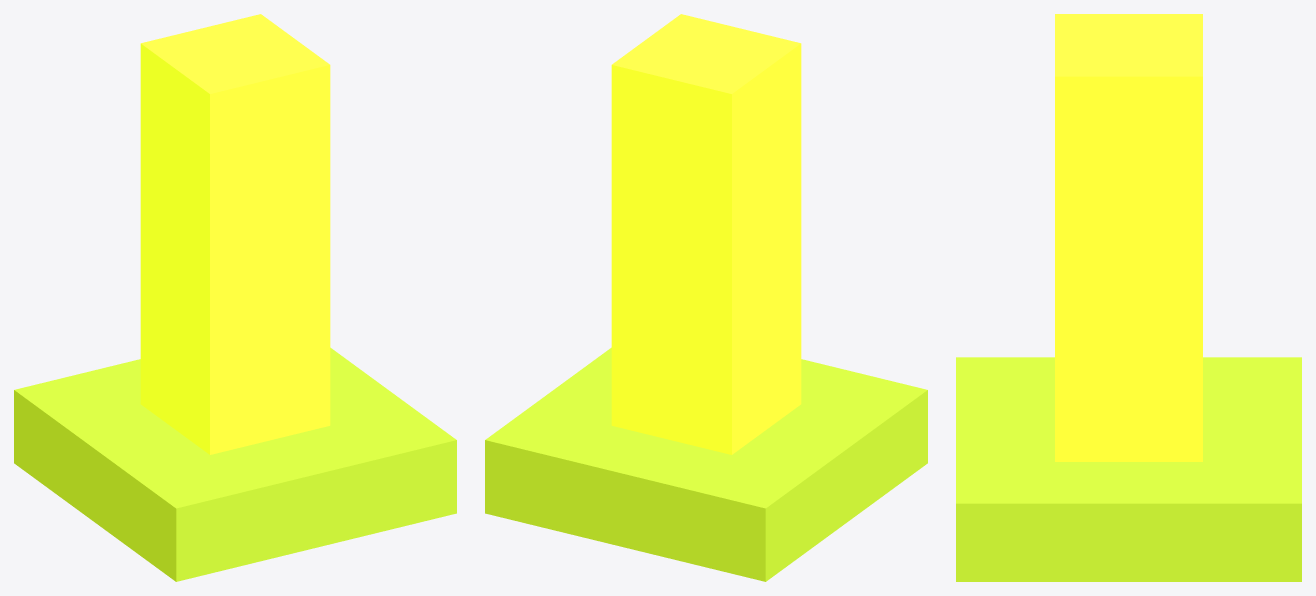
The model's file is turret_aura_pot.glb.
3 renders of one model, left to right at view 1: azimuth 30°, elevation 25°; view 2: azimuth 150°, elevation 25°; view 3: azimuth 270°, elevation 25°, orthographic. The views are drawn at different scales.
Parts seen in each view (by area): view 1: Weapon, Base; view 2: Weapon, Base; view 3: Weapon, Base.
Boxes of the visible parts, x1,y1,x2,y2 form: Weapon: [140, 14, 330, 454]; Base: [14, 347, 456, 581]; Weapon: [611, 14, 801, 454]; Base: [485, 347, 927, 581]; Weapon: [1055, 14, 1202, 461]; Base: [956, 357, 1301, 581].
Bounding box in the file's own units: 1.4 × 2.07 × 1.4.
